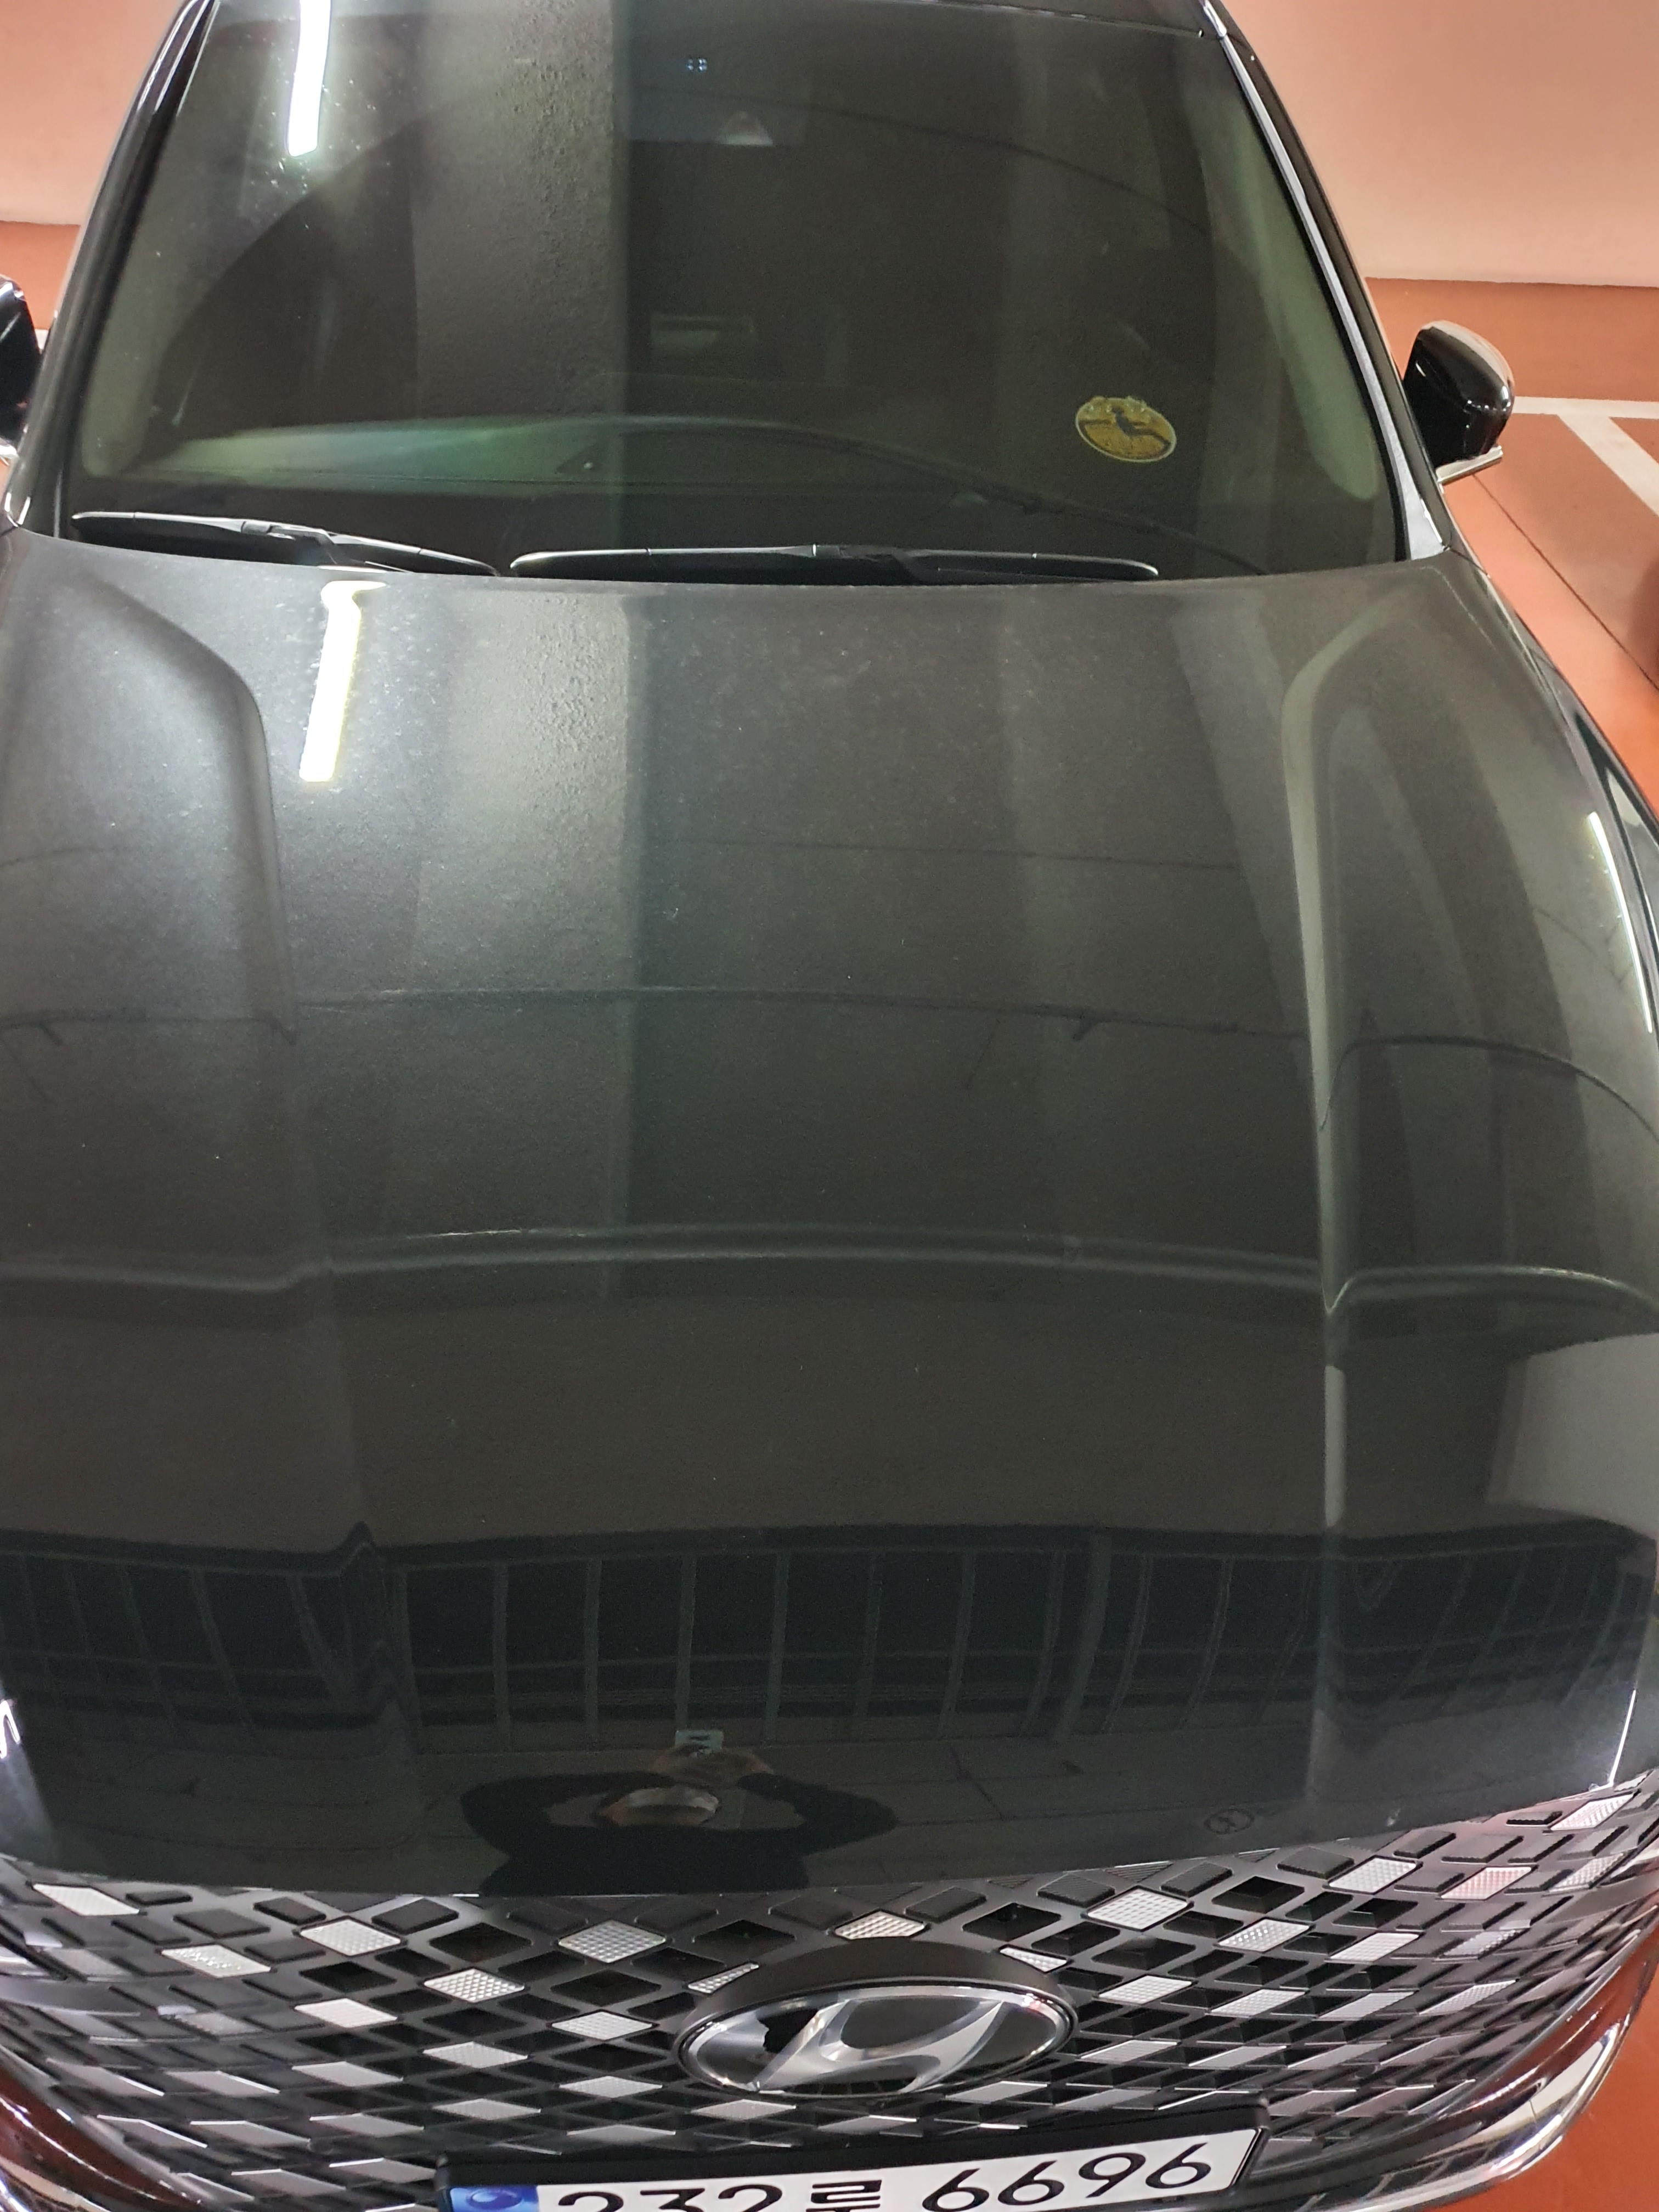disabled_parking: (1063, 385, 1195, 474)
